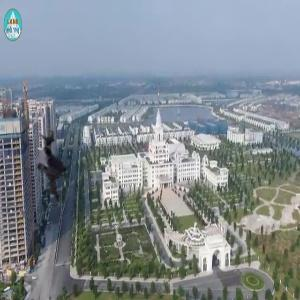drone: (14, 128, 94, 208)
